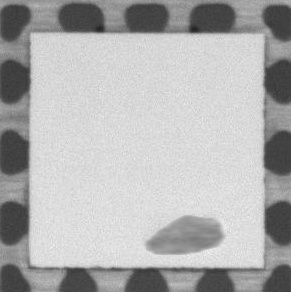DIE_INK: (147, 214, 223, 256)
